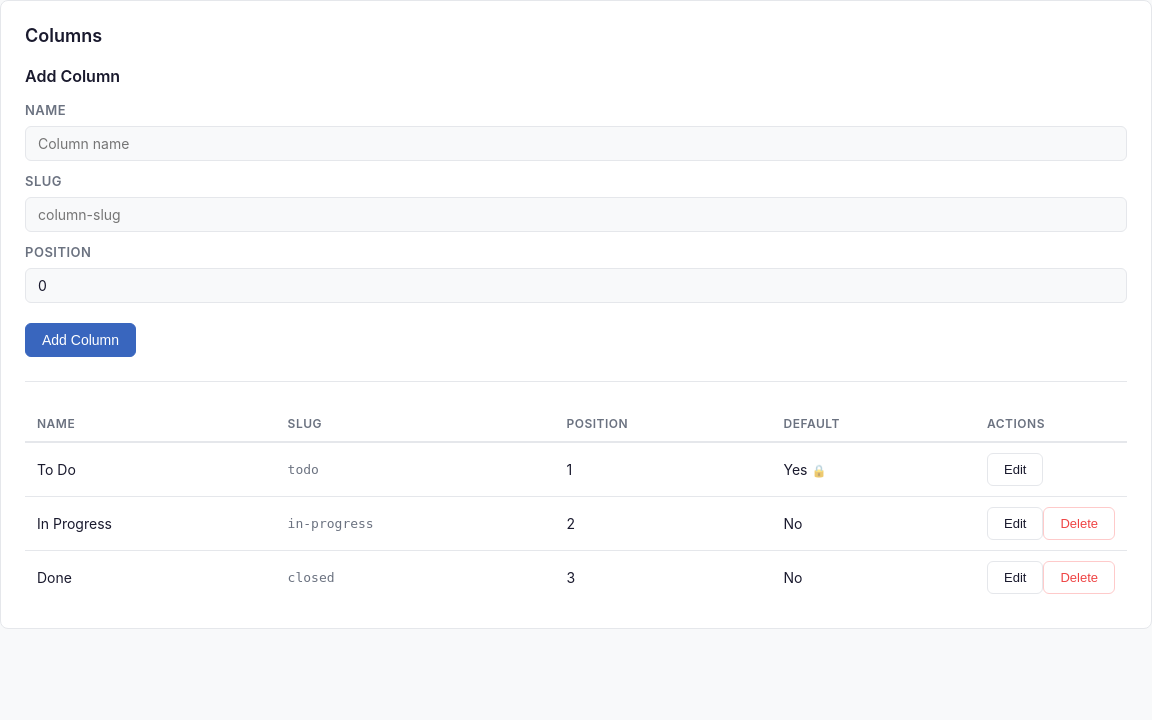
Test case: ColumnsSettings › shows editing inputs when edit button clicked
Click the button with class "edit-btn" in the row of "To Do": (1015, 470) [987,453,1043,486]
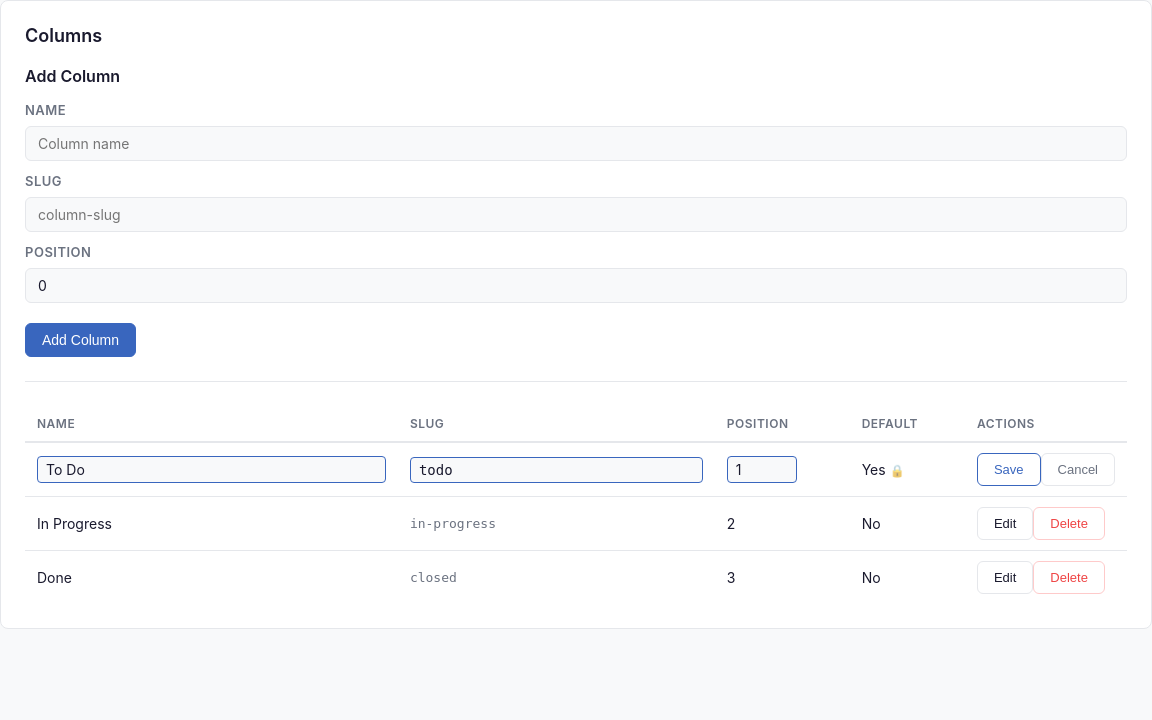
Check: the number of fields with class "cell-input" is 3, box [37,456,386,483]; [410,456,703,482]; [727,456,797,483]
